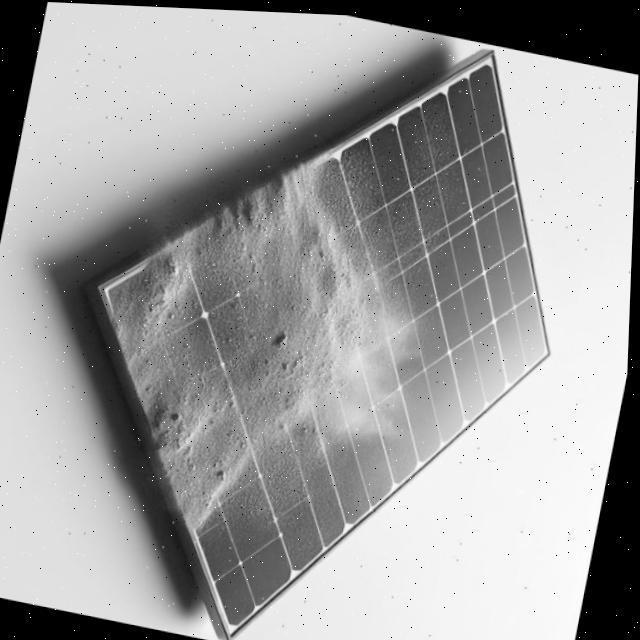Anomaly Solar Panel: (20, 31, 634, 635)
Surface Contaminant: (86, 99, 587, 594)
